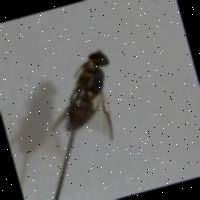Oriental-fruit-fly: (22, 14, 140, 160)
